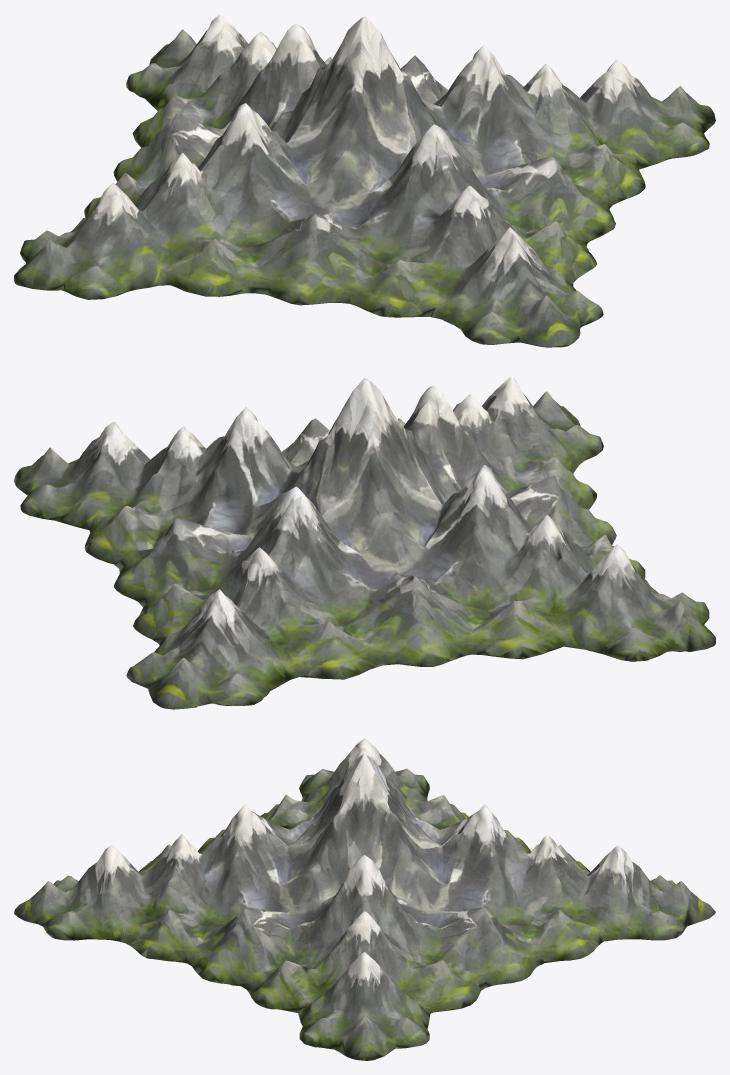
The model's file is mountain-backdrop.glb.
3 renders of one model, top to bottom at view 1: azimuth 30°, elevation 25°; view 2: azimuth 150°, elevation 25°; view 3: azimuth 270°, elevation 25°, orthographic. The views are drawn at different scales.
Bounding box in the file's own units: 1.91 × 0.4781 × 1.91.
Materials: 1 (1 with a texture image).
